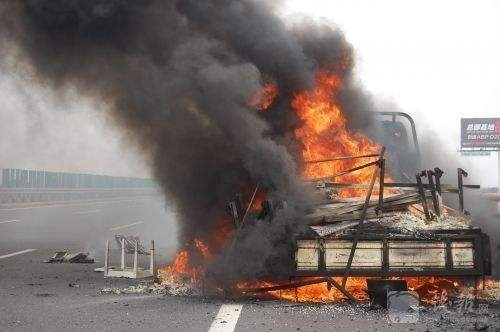fire: (157, 50, 472, 309)
